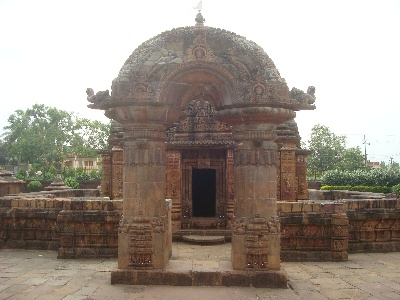torana: (84, 17, 311, 273)
